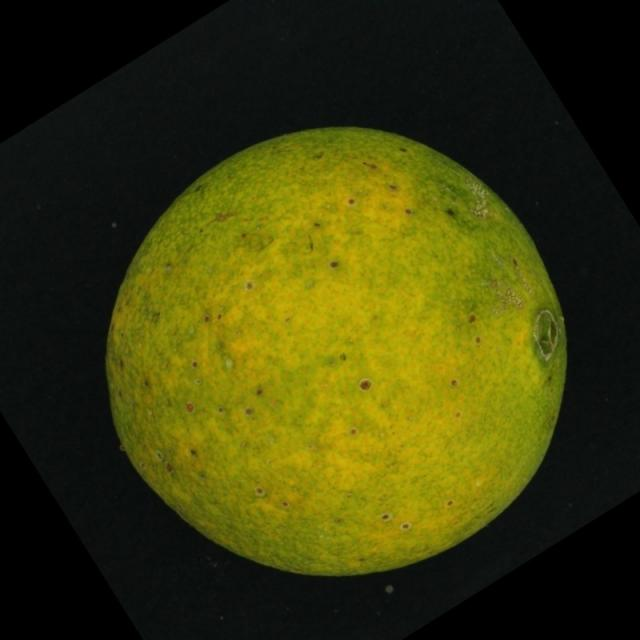grenning: (80, 106, 590, 591)
